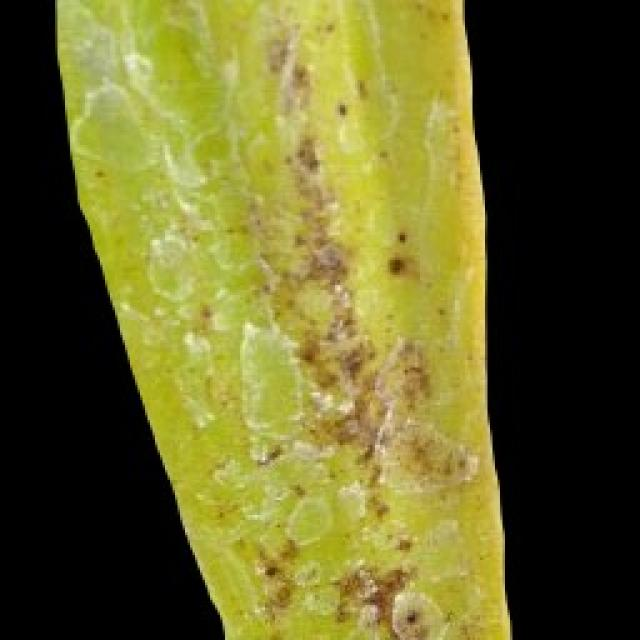mite: (248, 488, 448, 638), (252, 488, 332, 622), (330, 565, 378, 625), (388, 588, 438, 638), (282, 495, 332, 545), (385, 228, 408, 275), (395, 605, 425, 638), (355, 600, 380, 630), (268, 580, 292, 608), (330, 92, 352, 120), (390, 222, 412, 245), (385, 252, 405, 275), (260, 560, 280, 578), (400, 608, 420, 625), (335, 98, 348, 118), (395, 228, 408, 242)
spots: (50, 0, 520, 638)
